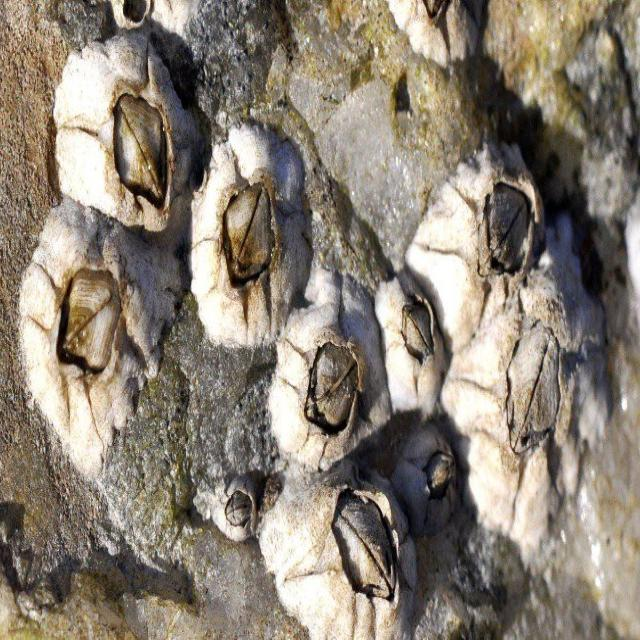barnacles: (460, 251, 613, 560), (13, 204, 175, 471), (56, 29, 197, 234), (190, 115, 309, 346), (272, 262, 390, 474), (270, 473, 416, 639), (421, 142, 544, 322), (378, 262, 445, 422), (397, 426, 470, 540), (213, 474, 259, 546)
